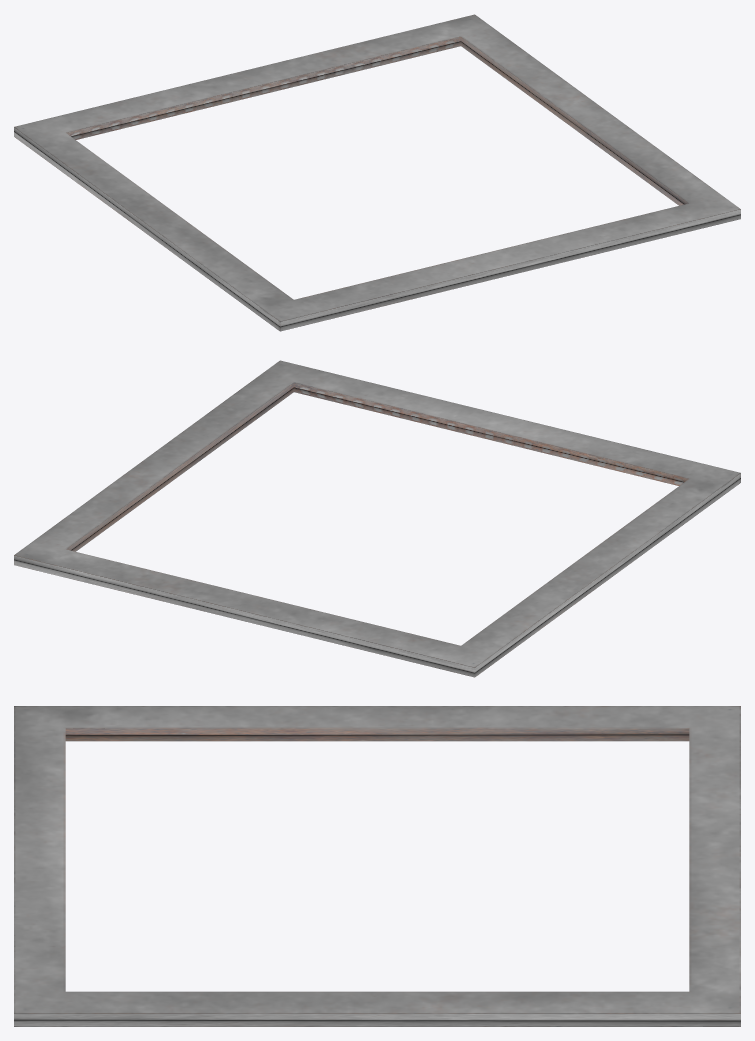
File: SM_Grate_1_Base.fbx
3 renders of one model, top to bottom at view 1: azimuth 30°, elevation 25°; view 2: azimuth 150°, elevation 25°; view 3: azimuth 270°, elevation 25°, orthographic. The views are drawn at different scales.
Visible parts, largest first — view 1: SM_Grate_1_Base; view 2: SM_Grate_1_Base; view 3: SM_Grate_1_Base.
Part boxes in pixels (left/top/right/bottom): SM_Grate_1_Base: left=14, top=14, right=740, bottom=331; SM_Grate_1_Base: left=14, top=360, right=740, bottom=677; SM_Grate_1_Base: left=14, top=706, right=740, bottom=1026.
Bounding box in the file's own units: 100 × 2.05 × 100.
